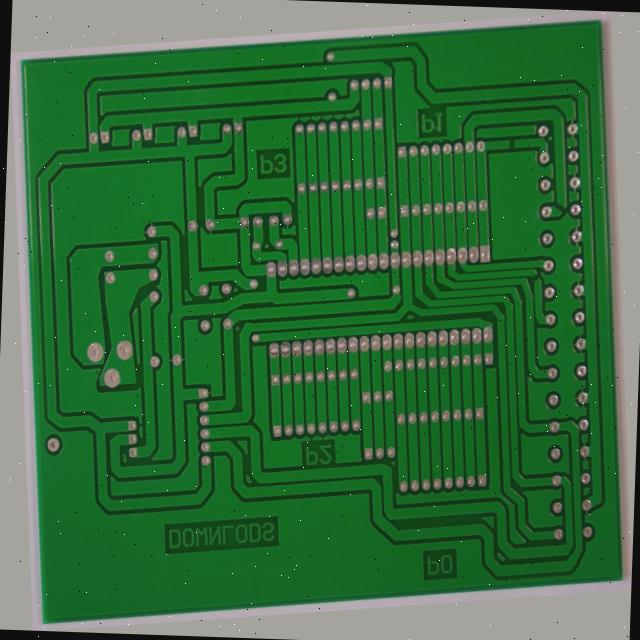open_circuit: (530, 137, 544, 155), (545, 288, 559, 304)
